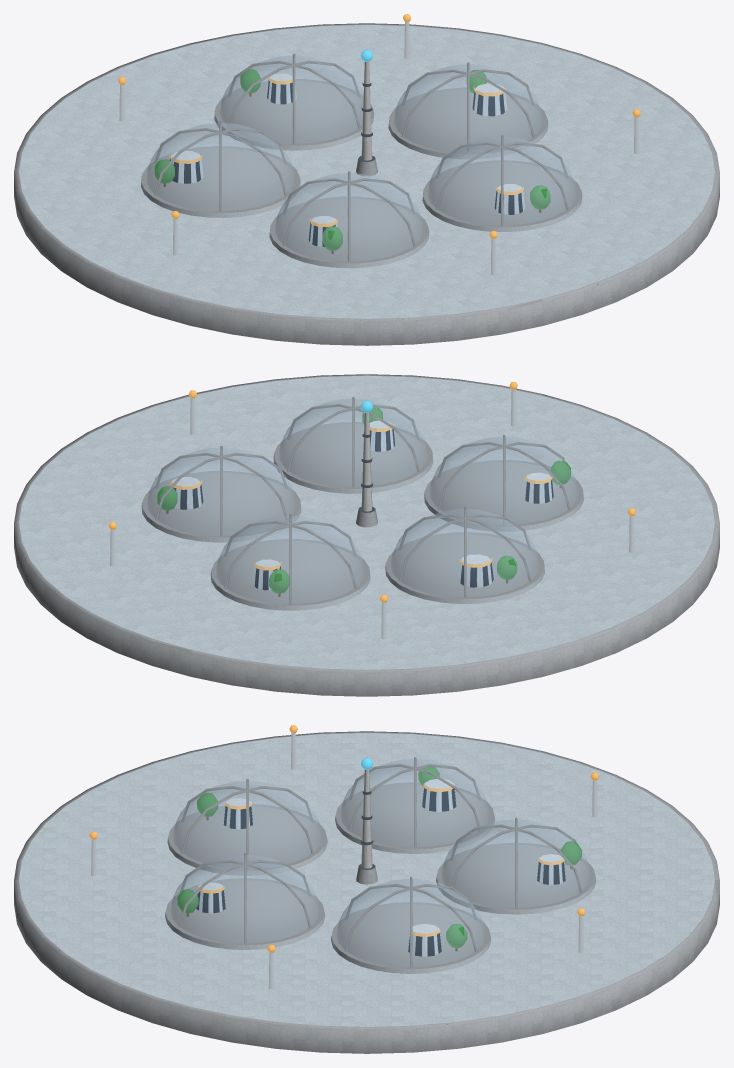
Rendered from pluto_igloo_village.glb.
3 renders of one model, top to bottom at view 1: azimuth 30°, elevation 25°; view 2: azimuth 150°, elevation 25°; view 3: azimuth 270°, elevation 25°, orthographic.
Visible parts, largest first — view 1: pluto_igloo_village_LOD0; view 2: pluto_igloo_village_LOD0; view 3: pluto_igloo_village_LOD0.
Part boxes in pixels (x1,y1,x2,y2): pluto_igloo_village_LOD0: (14,14,719,345); pluto_igloo_village_LOD0: (14,374,719,696); pluto_igloo_village_LOD0: (14,725,719,1053).
Size of what is drawn, in the model's own units: 56.8 by 13.2 by 56.8.
4 materials, 3 textured.
